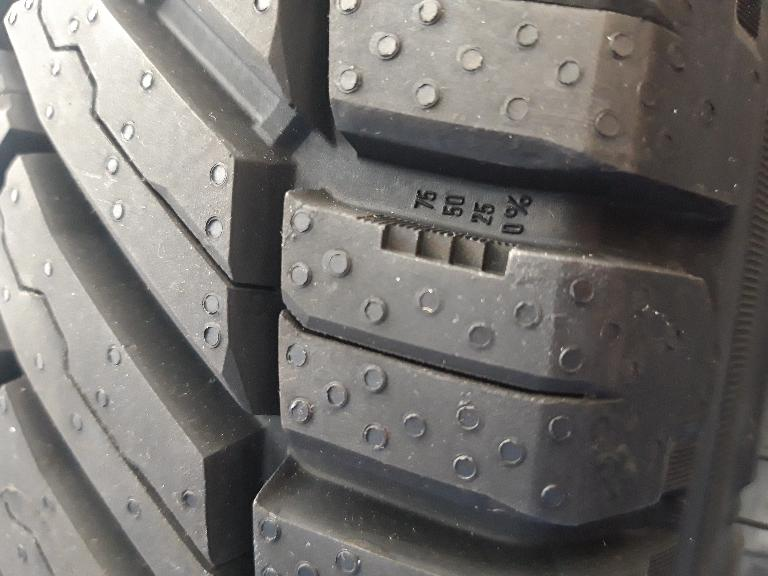temoin:100: (354, 209, 523, 285)
